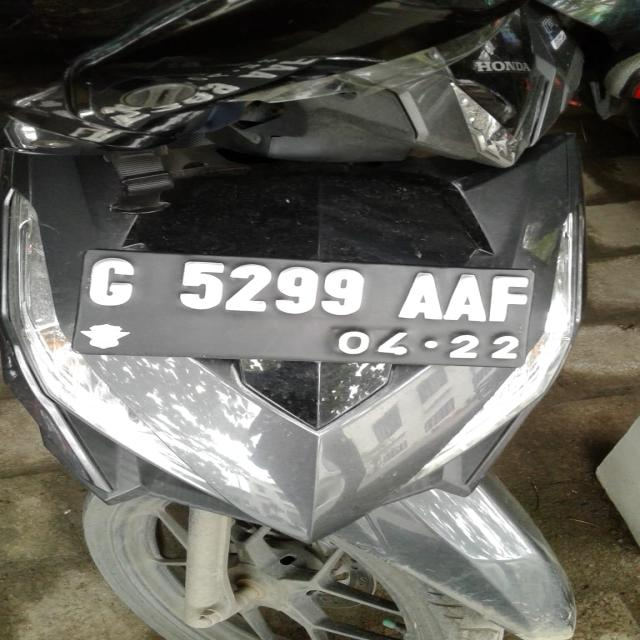plate: (88, 253, 546, 367)
